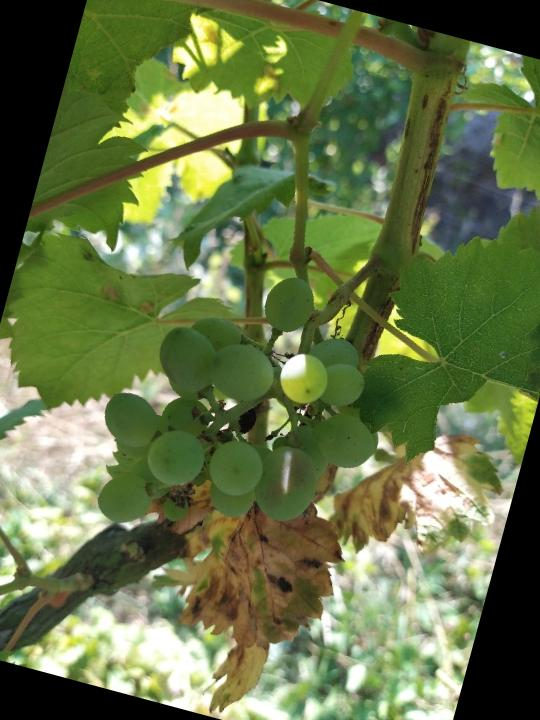grape: (74, 235, 416, 585)
